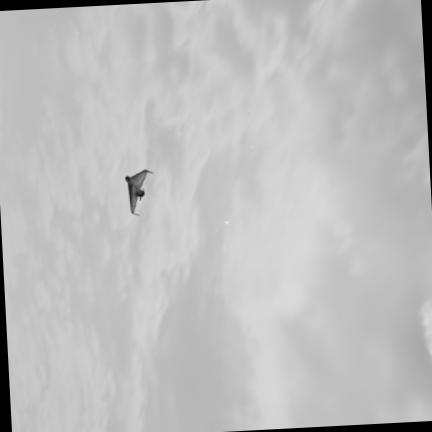Shahed: (125, 170, 151, 215)
